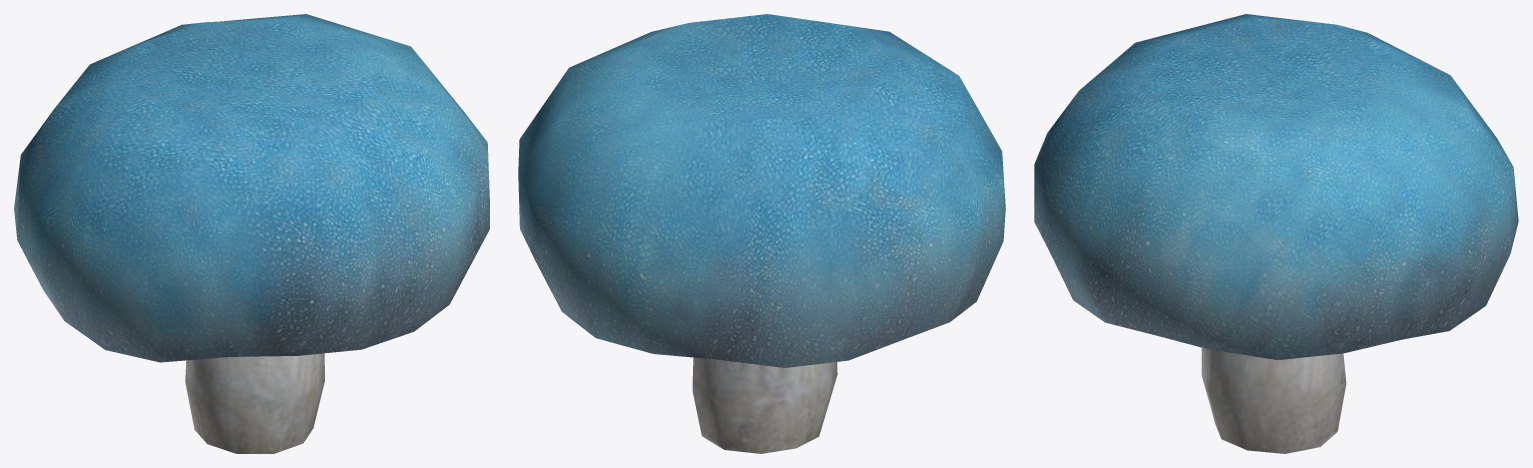
Rendered from mushroom09.FBX.
3 views of the same model, side by side, from view 1: azimuth 30°, elevation 25°; view 2: azimuth 150°, elevation 25°; view 3: azimuth 270°, elevation 25° (orthographic).
Parts seen in each view (by area): view 1: mogu09; view 2: mogu09; view 3: mogu09.
Part boxes in pixels (box(x1,y1,x2,y2)): mogu09: box(14, 14, 489, 453); mogu09: box(518, 14, 1005, 453); mogu09: box(1034, 14, 1518, 453).
Size of the model in its own units: 0.0813 by 0.0658 by 0.081.
